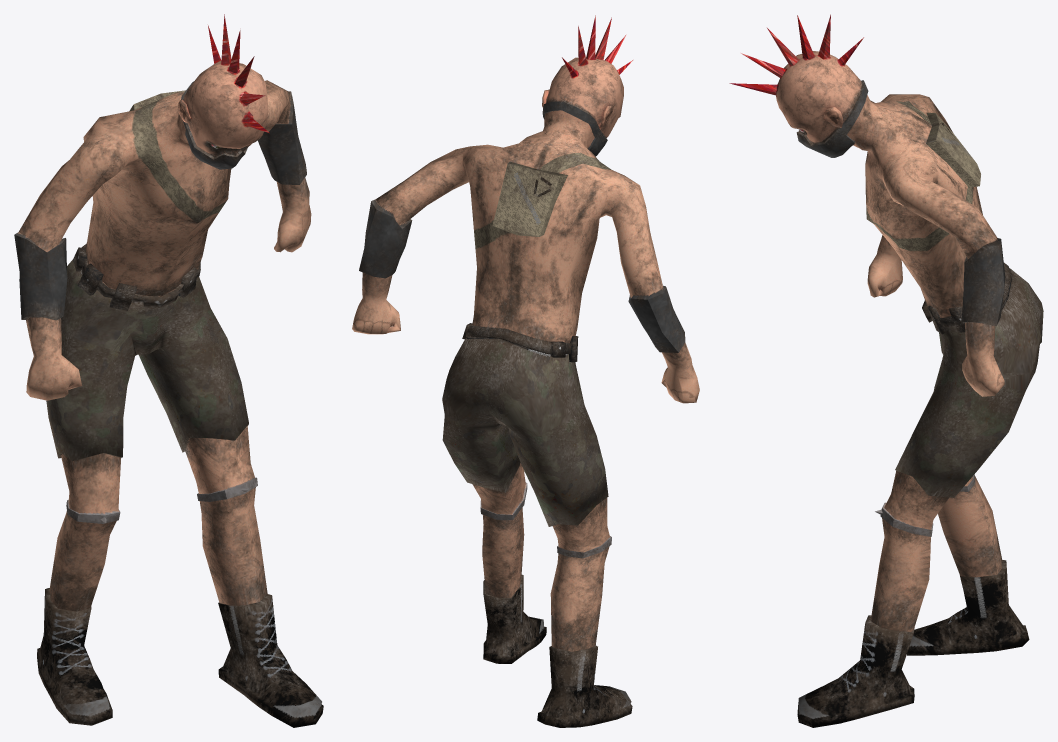
The model's file is Anim_cogerobjeto_npc2.0022.obj.
3 renders of one model, left to right at view 1: azimuth 30°, elevation 25°; view 2: azimuth 150°, elevation 25°; view 3: azimuth 270°, elevation 25°, orthographic. The views are drawn at different scales.
Visible parts, largest first — view 1: polySurface1; view 2: polySurface1; view 3: polySurface1.
Boxes of the visible parts, box(x1,y1,x2,y2) form: polySurface1: box(14, 14, 323, 727); polySurface1: box(352, 15, 699, 727); polySurface1: box(729, 14, 1043, 727).
Size of the model in its own units: 4.61 by 9.42 by 3.97.
